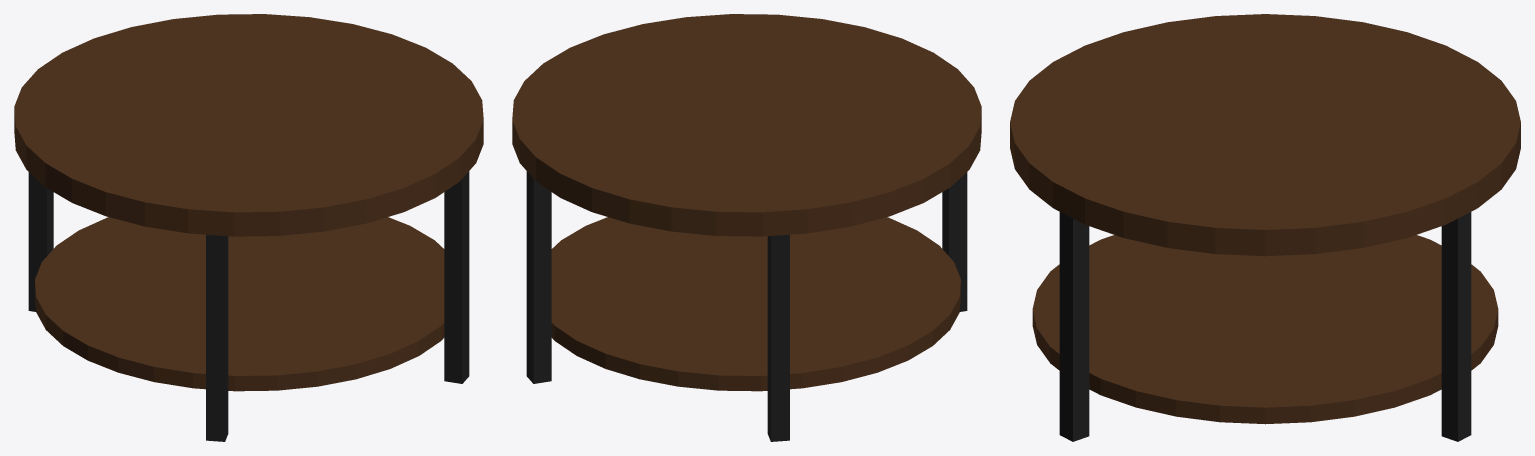
The model's file is Fur_office_CoffeeTable_Circular_V2_Fixed_.fbx.
The picture shows the model from 3 angles, left to right: view 1: azimuth 30°, elevation 25°; view 2: azimuth 150°, elevation 25°; view 3: azimuth 270°, elevation 25°; orthographic projection. The views are drawn at different scales.
Parts seen in each view (by area): view 1: Circle; view 2: Circle; view 3: Circle.
Part boxes in pixels (bbox=[...]): Circle: bbox=[14, 14, 483, 441]; Circle: bbox=[512, 14, 981, 441]; Circle: bbox=[1010, 14, 1520, 441].
Size of the model in its own units: 897 by 485 by 897.
